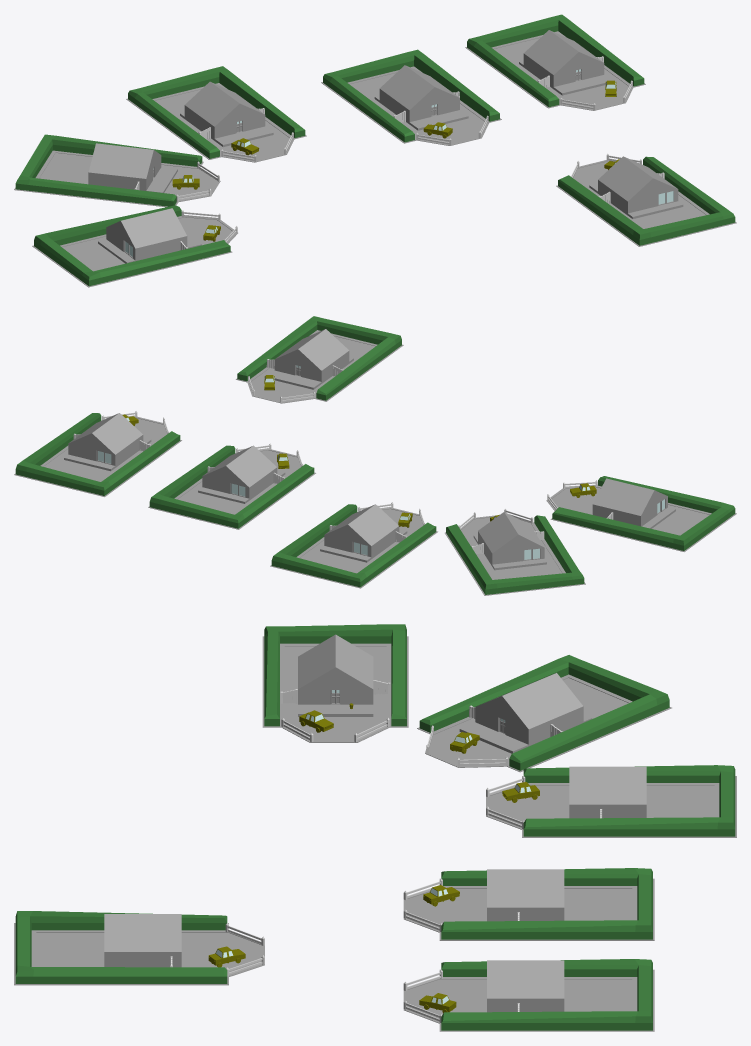
The model's file is MiscHouses.fbx.
3 renders of one model, top to bottom at view 1: azimuth 30°, elevation 25°; view 2: azimuth 150°, elevation 25°; view 3: azimuth 270°, elevation 25°, orthographic. The views are drawn at different scales.
Parts seen in each view (by area): view 1: LeafyBushBoarder (×6), Driveway1 (×6), RoofHouse1 (×6), House1 (×6); view 2: LeafyBushBoarder (×6), RoofHouse1 (×6), Driveway1 (×6), House1 (×6); view 3: LeafyBushBoarder (×6), Driveway1 (×6), RoofHouse1 (×6), House1 (×6).
Boxes of the visible parts, box(x1,y1,x2,y2) form: LeafyBushBoarder (×6): box(14, 14, 736, 287); Driveway1 (×6): box(37, 32, 708, 271); RoofHouse1 (×6): box(88, 30, 677, 248); House1 (×6): box(79, 53, 683, 263); LeafyBushBoarder (×6): box(14, 316, 736, 595); RoofHouse1 (×6): box(68, 329, 667, 553); Driveway1 (×6): box(41, 331, 710, 579); House1 (×6): box(64, 351, 675, 570); LeafyBushBoarder (×6): box(14, 624, 736, 1031); Driveway1 (×6): box(33, 644, 717, 1023); RoofHouse1 (×6): box(104, 634, 646, 998); House1 (×6): box(91, 689, 659, 1012).
Size of the model in its own units: 1078 by 51.56 by 834.
